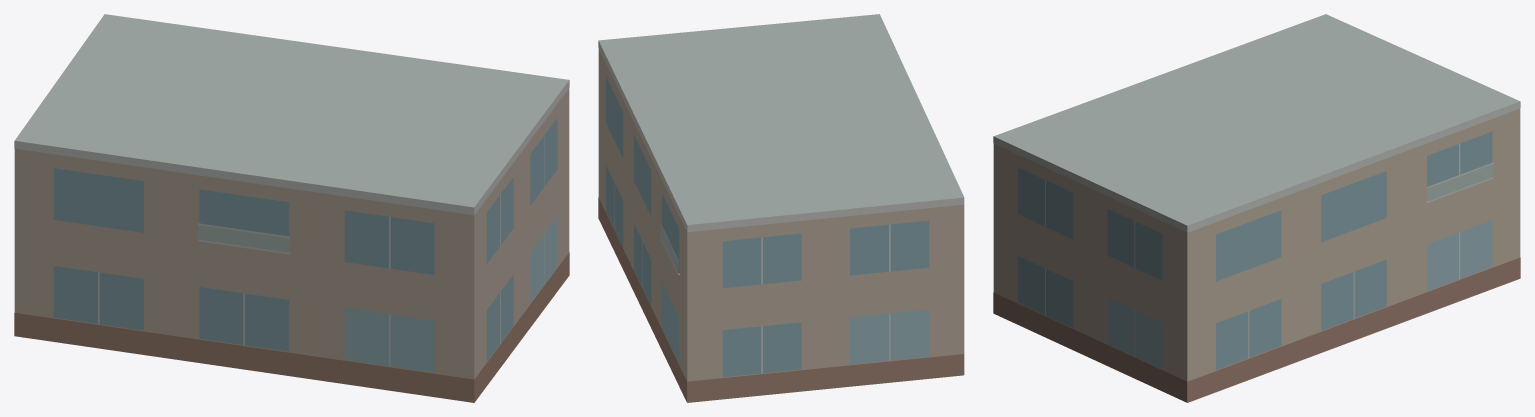
File: survey-upis-32694352.glb
The picture shows the model from 3 angles, left to right: view 1: azimuth 30°, elevation 25°; view 2: azimuth 150°, elevation 25°; view 3: azimuth 270°, elevation 25°; orthographic projection. The views are drawn at different scales.
Visible parts, largest first — view 1: survey-upis-32694352.tmp; view 2: survey-upis-32694352.tmp; view 3: survey-upis-32694352.tmp.
Boxes of the visible parts, x1=… form: survey-upis-32694352.tmp: x1=14, y1=14, x2=569, y2=402; survey-upis-32694352.tmp: x1=598, y1=14, x2=964, y2=402; survey-upis-32694352.tmp: x1=993, y1=14, x2=1520, y2=402.
Bounding box in the file's own units: 15.64 × 6.1 × 16.46.
